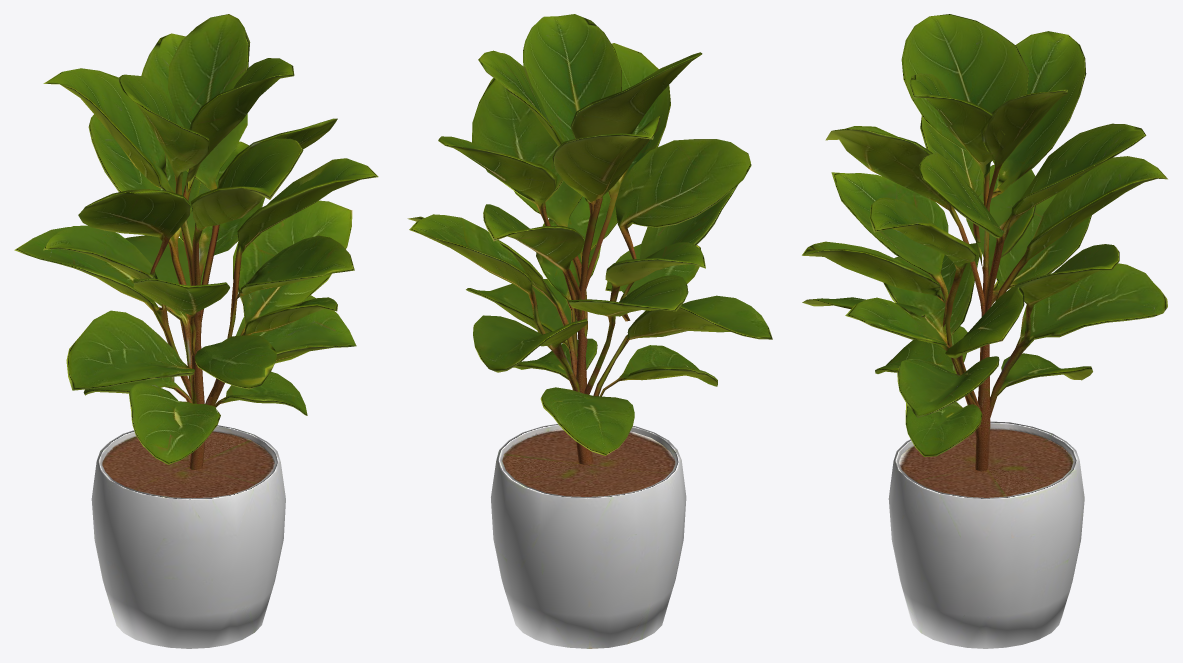
The model's file is plant_fiddle.glb.
The picture shows the model from 3 angles, left to right: view 1: azimuth 30°, elevation 25°; view 2: azimuth 150°, elevation 25°; view 3: azimuth 270°, elevation 25°; orthographic projection.
Bounding box in the file's own units: 0.6004 × 1 × 0.5917.
1 material, 1 textured.
